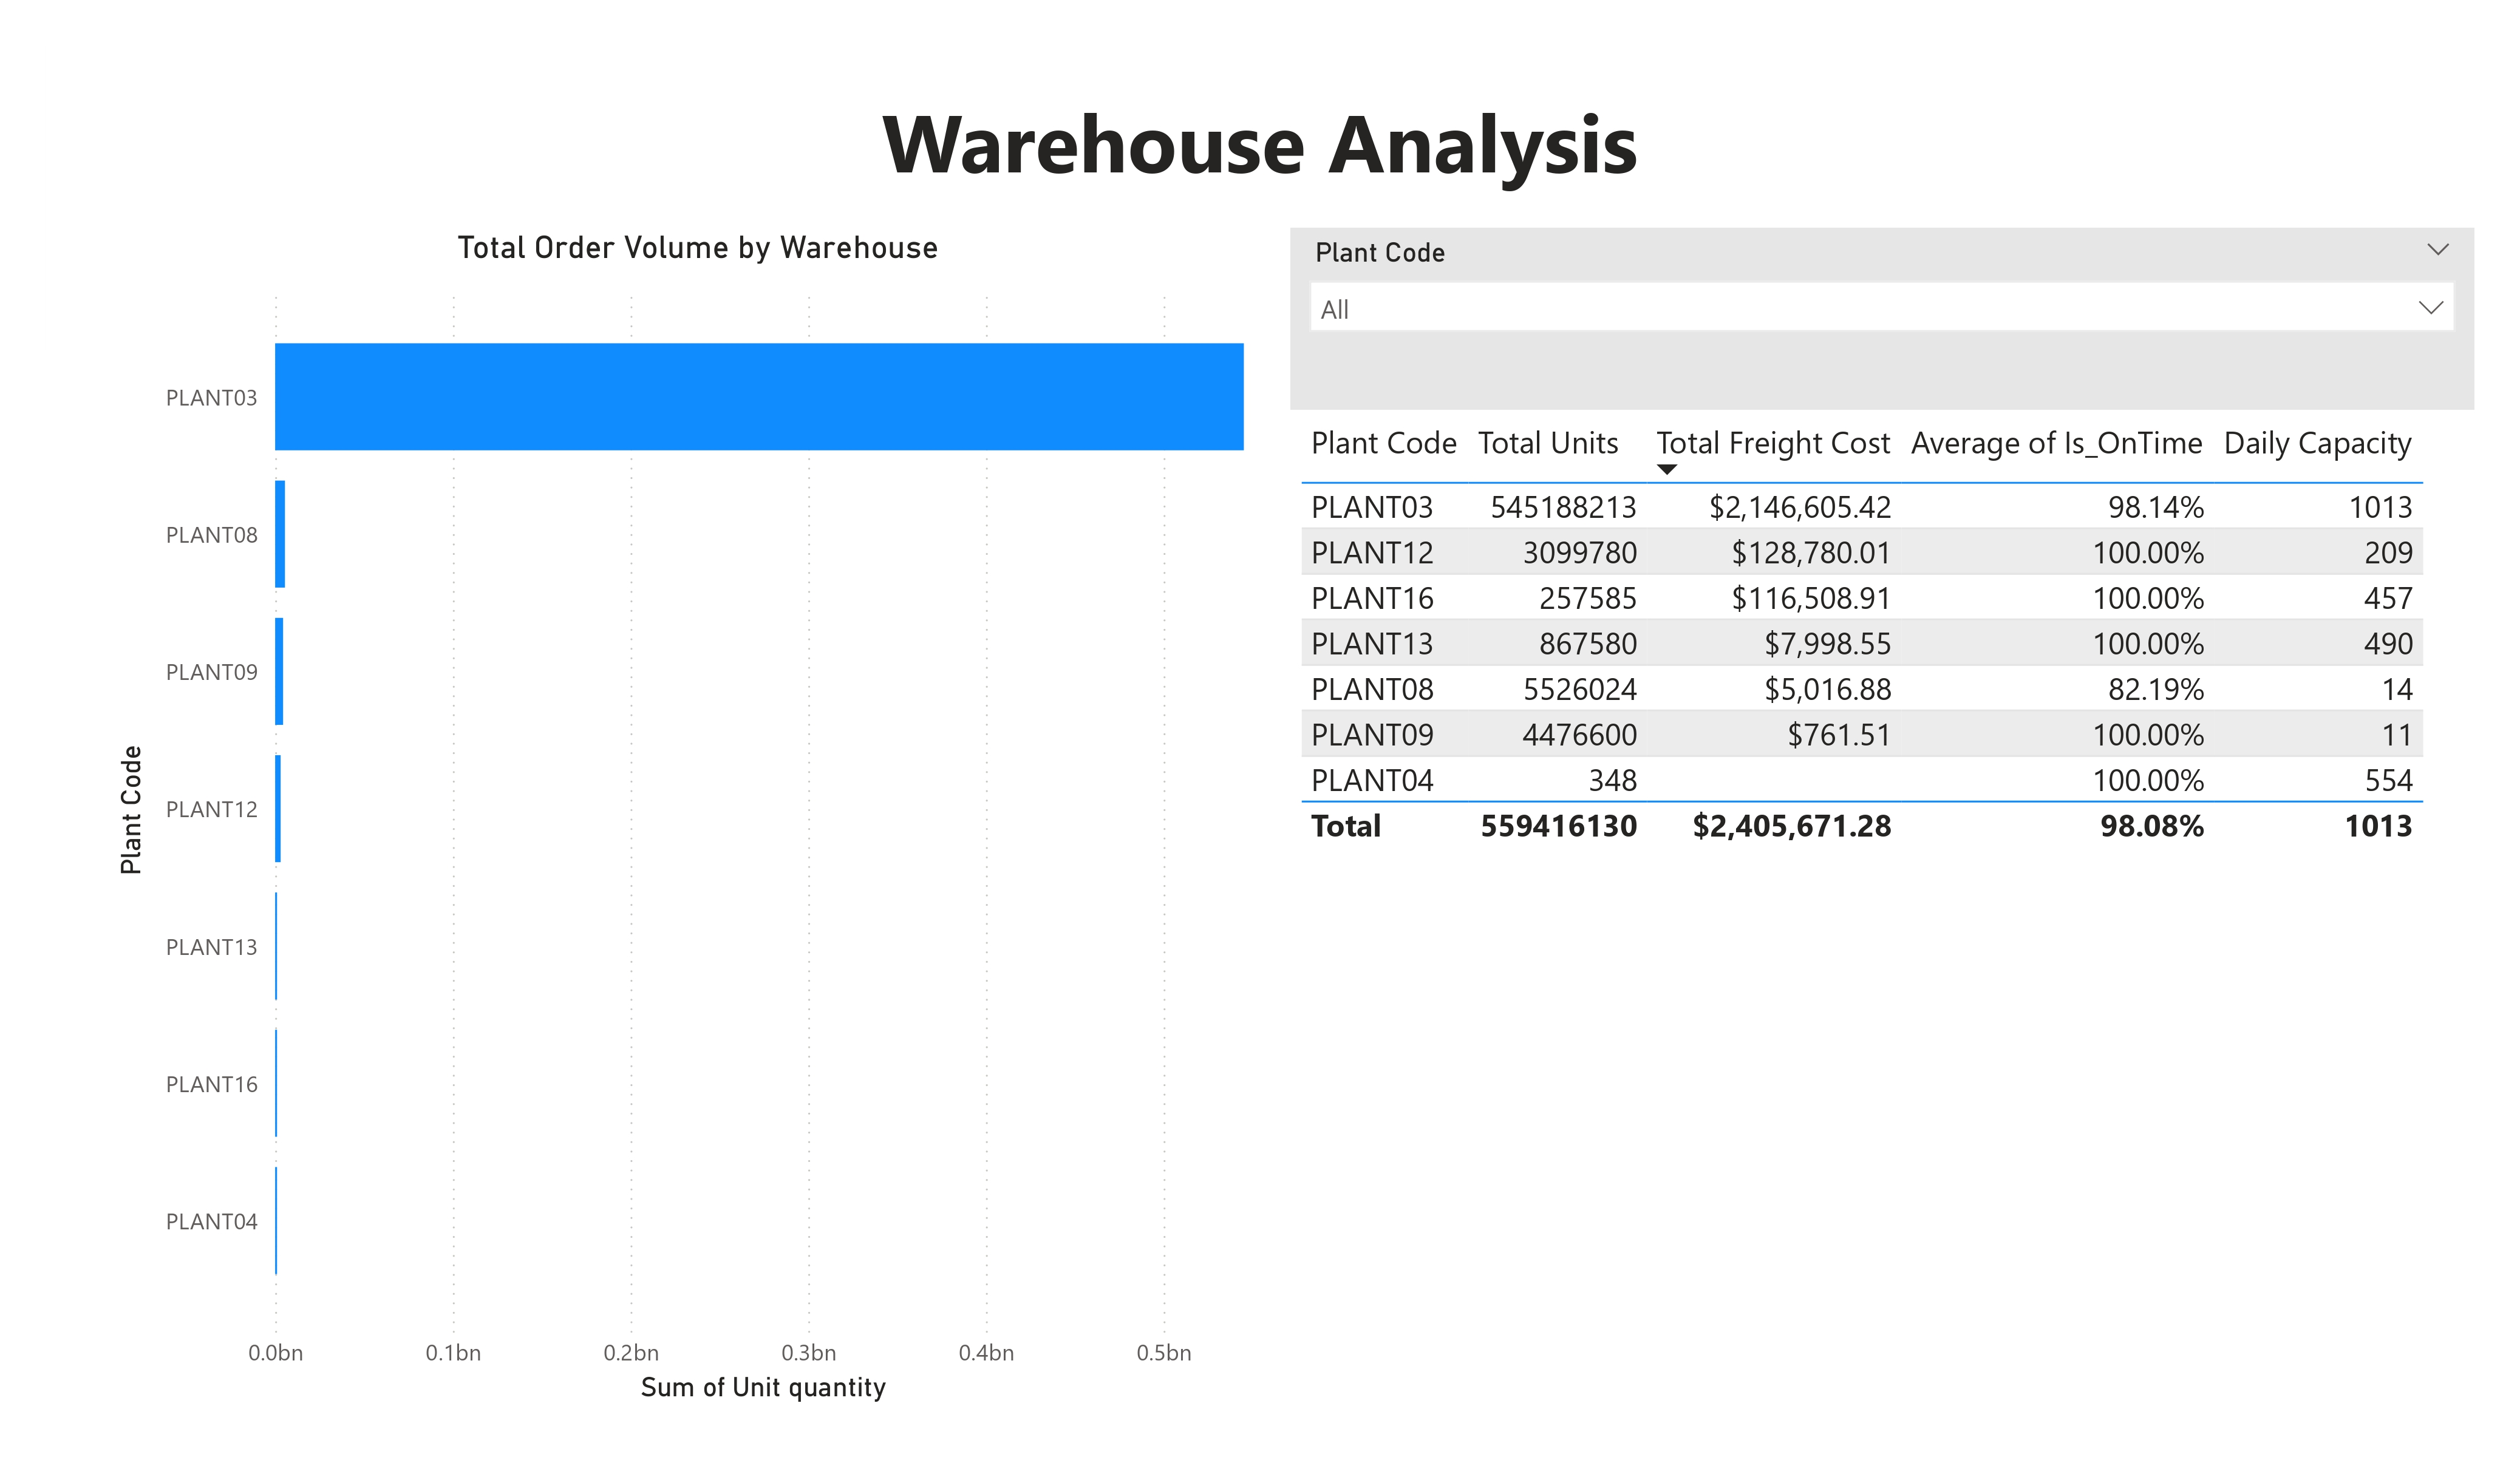

What the dashboard file says about the page in this screenshot:
{"tool":"powerbi","page":{"name":"Warehouse Analysis","canvas":[1280,720],"ordinal":2},"visuals":[{"type":"clusteredBarChart","title":"Total Order Volume by Warehouse","fields":{"Category":["OrderList6.Plant Code"],"Y":["Sum(OrderList6.Unit quantity)"]},"box":[32,96,624,624],"z":0},{"type":"textbox","box":[0,16,1280,80],"z":1000},{"type":"tableEx","fields":{"Values":["OrderList6.Plant Code","Sum(OrderList6.Unit quantity)","Sum(OrderList6.Freight_Cost)","Avg(OrderList6.Is_OnTime)","Max(OrderList6.WhCapacities.Daily Capacity )"]},"box":[656,192,624,240],"z":2000},{"type":"slicer","fields":{"Values":["OrderList6.Plant Code"]},"box":[656,96,624,96],"z":3000}]}

Visuals, with their boxes on the page's 1280x720 design canvas (x1, y1, x2, y2). These are canvas units, not pixel positions in the 2520x1457 screenshot, which may show the page scaled, cropped or inside an application window:
"Total Order Volume by Warehouse" clusteredBarChart: (x1=32, y1=96, x2=656, y2=720)
textbox: (x1=0, y1=16, x2=1280, y2=96)
tableEx - OrderList6.Plant Code x Sum(OrderList6.Unit quantity): (x1=656, y1=192, x2=1280, y2=432)
slicer - OrderList6.Plant Code: (x1=656, y1=96, x2=1280, y2=192)
